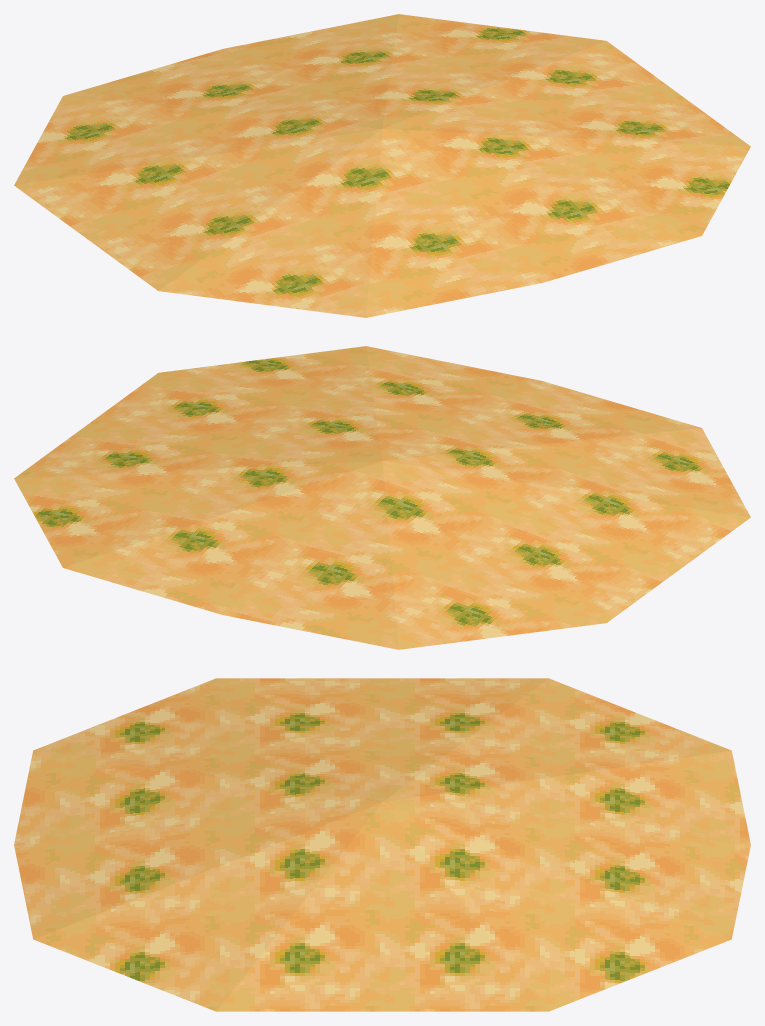
The model's file is 1386item2776r.gltf.
3 views of the same model, one above another, from view 1: azimuth 30°, elevation 25°; view 2: azimuth 150°, elevation 25°; view 3: azimuth 270°, elevation 25° (orthographic). The views are drawn at different scales.
Visible parts, largest first — view 1: 1386item2776r; view 2: 1386item2776r; view 3: 1386item2776r.
Part boxes in pixels (<box>): 1386item2776r: <box>14,14,750,317</box>; 1386item2776r: <box>14,346,750,649</box>; 1386item2776r: <box>14,678,750,1011</box>.
Size of the model in its own units: 0.522 by 0.0312 by 0.4878.
1 material, 1 textured.
